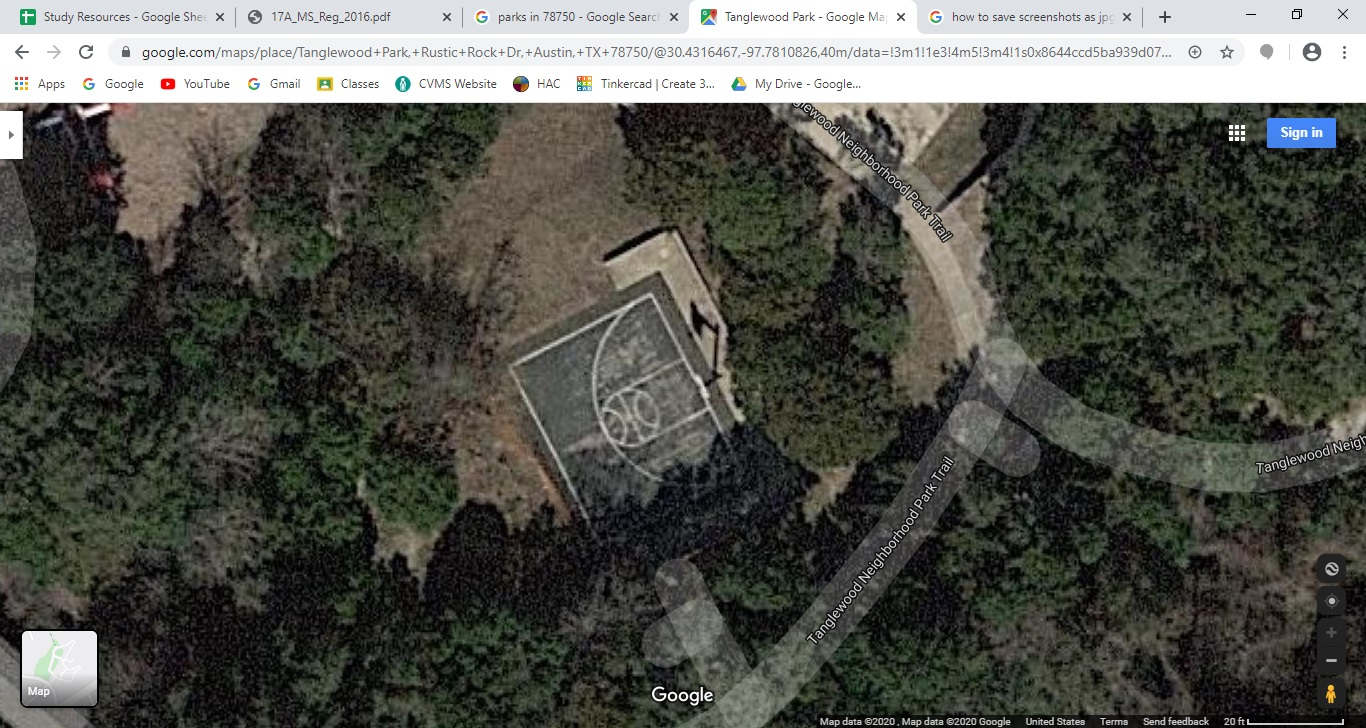basketball: (430, 261, 804, 580)
